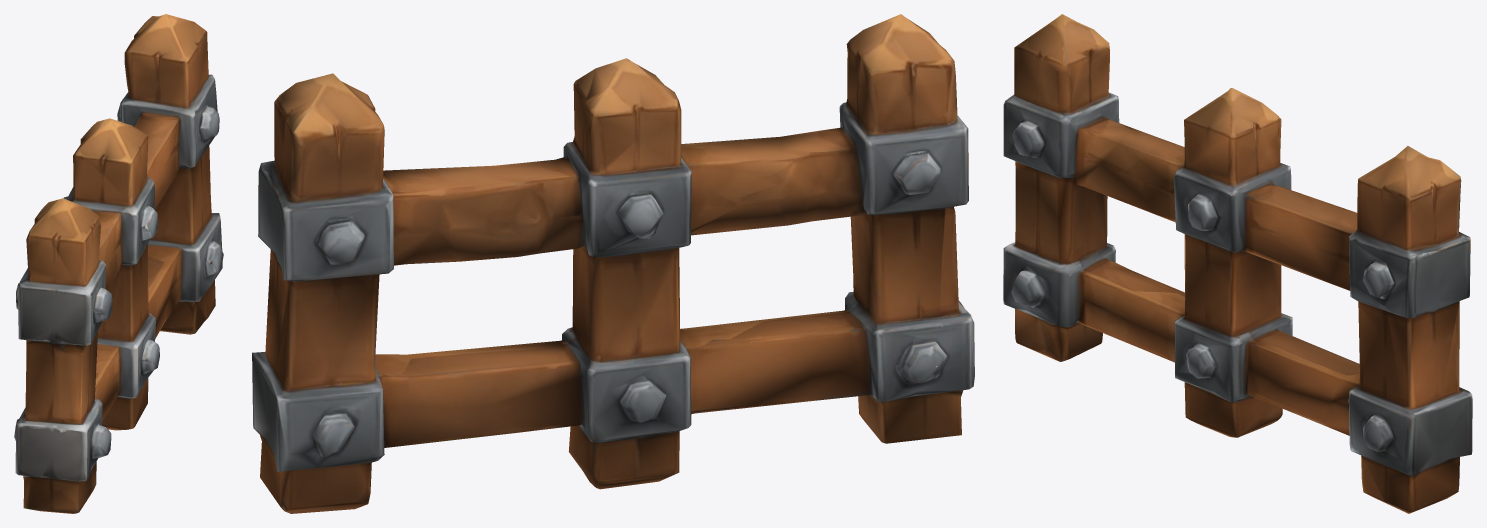
Rendered from dec_fence.glb.
The picture shows the model from 3 angles, left to right: view 1: azimuth 30°, elevation 25°; view 2: azimuth 150°, elevation 25°; view 3: azimuth 270°, elevation 25°; orthographic projection. The views are drawn at different scales.
Visible parts, largest first — view 1: BakeLow; view 2: BakeLow; view 3: BakeLow.
Boxes of the visible parts, bbox=[...] form: BakeLow: bbox=[14, 14, 223, 513]; BakeLow: bbox=[252, 14, 974, 513]; BakeLow: bbox=[1003, 14, 1472, 513].
Bounding box in the file's own units: 0.8102 × 0.6718 × 0.8146.
1 material, 1 textured.
